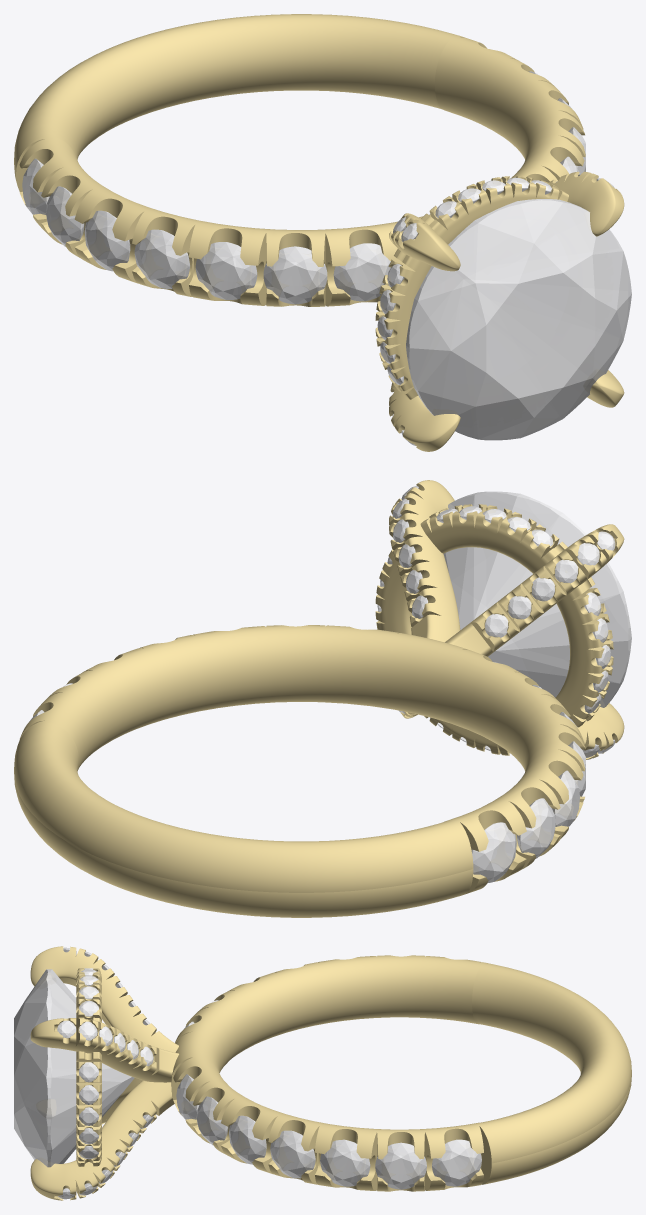
Rendered from test-ring-03.glb.
3 renders of one model, top to bottom at view 1: azimuth 30°, elevation 25°; view 2: azimuth 150°, elevation 25°; view 3: azimuth 270°, elevation 25°, orthographic. The views are drawn at different scales.
Parts seen in each view (by area): view 1: SHANK/Shank, STONES/Diamond_Round_Center, HEAD/Head_01, Gems 2/Diamond_Side_09, HEAD/Head_02, Gems 2/Diamond_Side_10, HEAD/Head_05, Gems 2/Diamond_Side_08, Gems 2/Diamond_Side_11, HEAD/Head_04, Gems 2/Diamond_Side_12, Gems 2/Diamond_Side_13 (+2 smaller); view 2: SHANK/Shank, STONES/Diamond_Round_Center, HEAD/Head_01, HEAD/Head_05, HEAD/Head_04, Gems 2/Diamond_Side_14, HEAD/Head_02, Gems 2/Diamond_Side_13, Gems 2/Diamond_Side_12; view 3: SHANK/Shank, STONES/Diamond_Round_Center, HEAD/Head_03, HEAD/Head_04, HEAD/Head_05, HEAD/Head_01, Gems 2/Diamond_Side_06, Gems 2/Diamond_Side_05, Gems 2/Diamond_Side_07, Gems 2/Diamond_Side_04, Gems 2/Diamond_Side_03, Gems 2/Diamond_Side_02 (+1 smaller).
Boxes of the visible parts, x1,y1,x2,y2 form: SHANK/Shank: (14, 14, 585, 306); STONES/Diamond_Round_Center: (406, 199, 631, 440); HEAD/Head_01: (375, 176, 568, 399); Gems 2/Diamond_Side_09: (263, 246, 327, 304); HEAD/Head_02: (389, 383, 460, 451); Gems 2/Diamond_Side_10: (195, 242, 257, 299); HEAD/Head_05: (548, 171, 624, 236); Gems 2/Diamond_Side_08: (333, 243, 390, 301); Gems 2/Diamond_Side_11: (134, 229, 189, 288); HEAD/Head_04: (389, 213, 460, 271); Gems 2/Diamond_Side_12: (84, 210, 130, 271); Gems 2/Diamond_Side_13: (46, 186, 84, 246); SHANK/Shank: (14, 625, 585, 917); STONES/Diamond_Round_Center: (443, 491, 631, 707); HEAD/Head_01: (375, 504, 613, 755); HEAD/Head_05: (389, 480, 460, 642); HEAD/Head_04: (445, 524, 624, 656); Gems 2/Diamond_Side_14: (471, 822, 516, 883); HEAD/Head_02: (577, 703, 624, 759); Gems 2/Diamond_Side_13: (517, 798, 555, 858); Gems 2/Diamond_Side_12: (552, 770, 579, 826); SHANK/Shank: (171, 955, 631, 1191); STONES/Diamond_Round_Center: (14, 969, 134, 1167); HEAD/Head_03: (30, 1080, 174, 1200); HEAD/Head_04: (30, 946, 178, 1052); HEAD/Head_05: (30, 1018, 178, 1082); HEAD/Head_01: (76, 968, 101, 1166); Gems 2/Diamond_Side_06: (375, 1142, 426, 1189); Gems 2/Diamond_Side_05: (320, 1139, 370, 1186); Gems 2/Diamond_Side_07: (432, 1139, 481, 1186); Gems 2/Diamond_Side_04: (270, 1130, 315, 1178); Gems 2/Diamond_Side_03: (229, 1115, 266, 1164); Gems 2/Diamond_Side_02: (197, 1096, 228, 1145).
Size of the model in its own units: 20.58 by 9.47 by 27.71.
